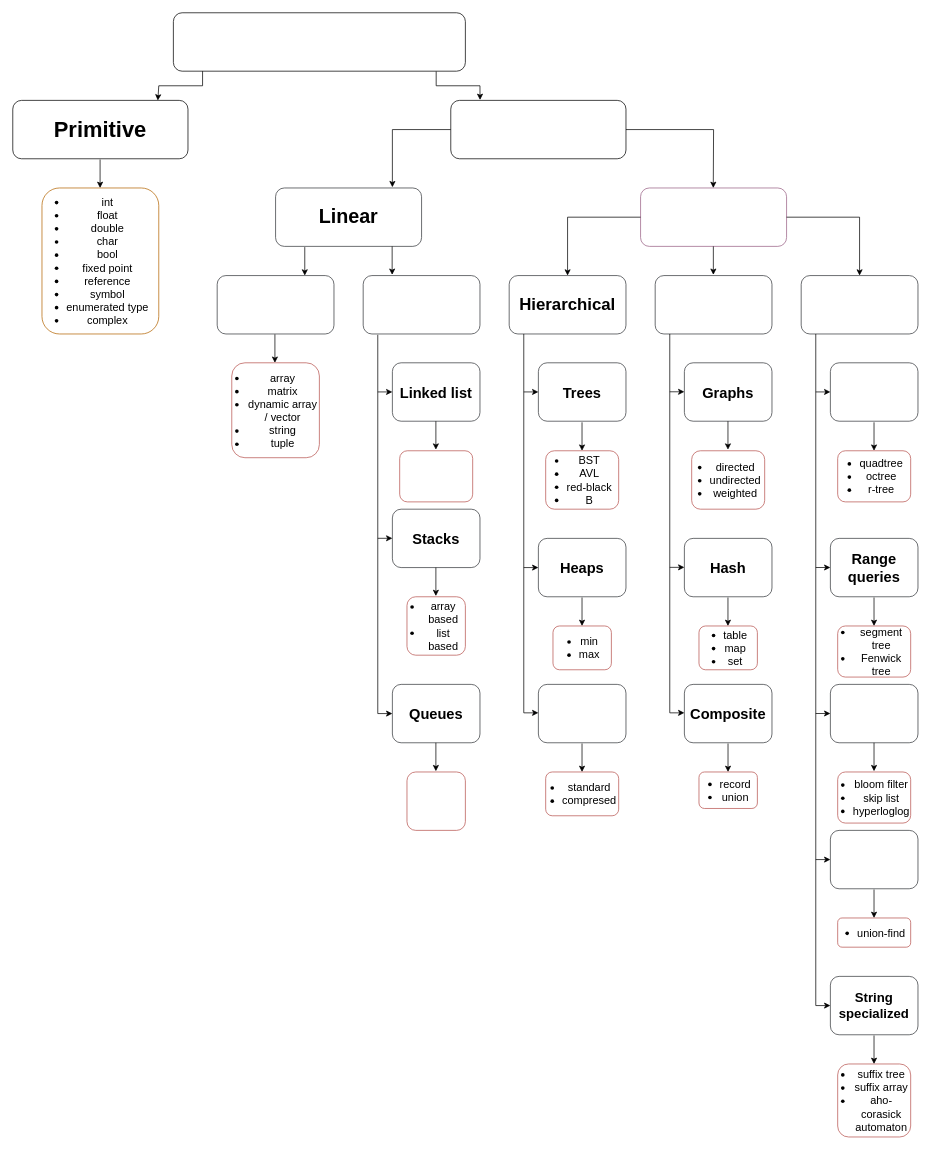
Some shapes in this 931 by 1157 pixel diagram are drawn without their labels. The box of each missing label's shape, as (x1, y1, x2, y2) in pixels:
Advanced specialized: (800, 275, 918, 334)
Data structures: (173, 12, 465, 71)
Direct access: (216, 275, 334, 334)
Disjoint sets: (830, 830, 918, 889)
Indirect access: (362, 275, 480, 334)
Non-linear: (640, 187, 787, 246)
Non-primitive: (450, 100, 626, 159)
Probabilistic: (830, 684, 918, 743)
Relational / Unordered: (654, 275, 772, 334)
simple circular priority deque: (406, 771, 465, 830)
singly doubly circular multi-level: (399, 450, 473, 502)
Spartial: (830, 362, 918, 421)
Tries: (538, 684, 626, 743)
